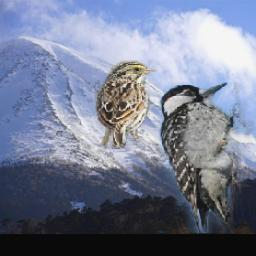Sparrow: (96, 61, 159, 150)
Woodpecker: (160, 83, 256, 234)
